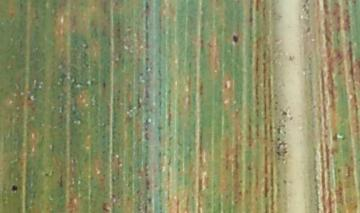tarspot: (322, 1, 331, 16), (230, 33, 240, 44), (57, 174, 64, 189), (253, 1, 261, 12), (10, 184, 18, 193), (101, 77, 107, 89), (288, 54, 296, 62), (281, 109, 288, 118), (305, 25, 311, 35), (275, 136, 283, 143), (144, 1, 149, 10), (304, 1, 309, 4)
